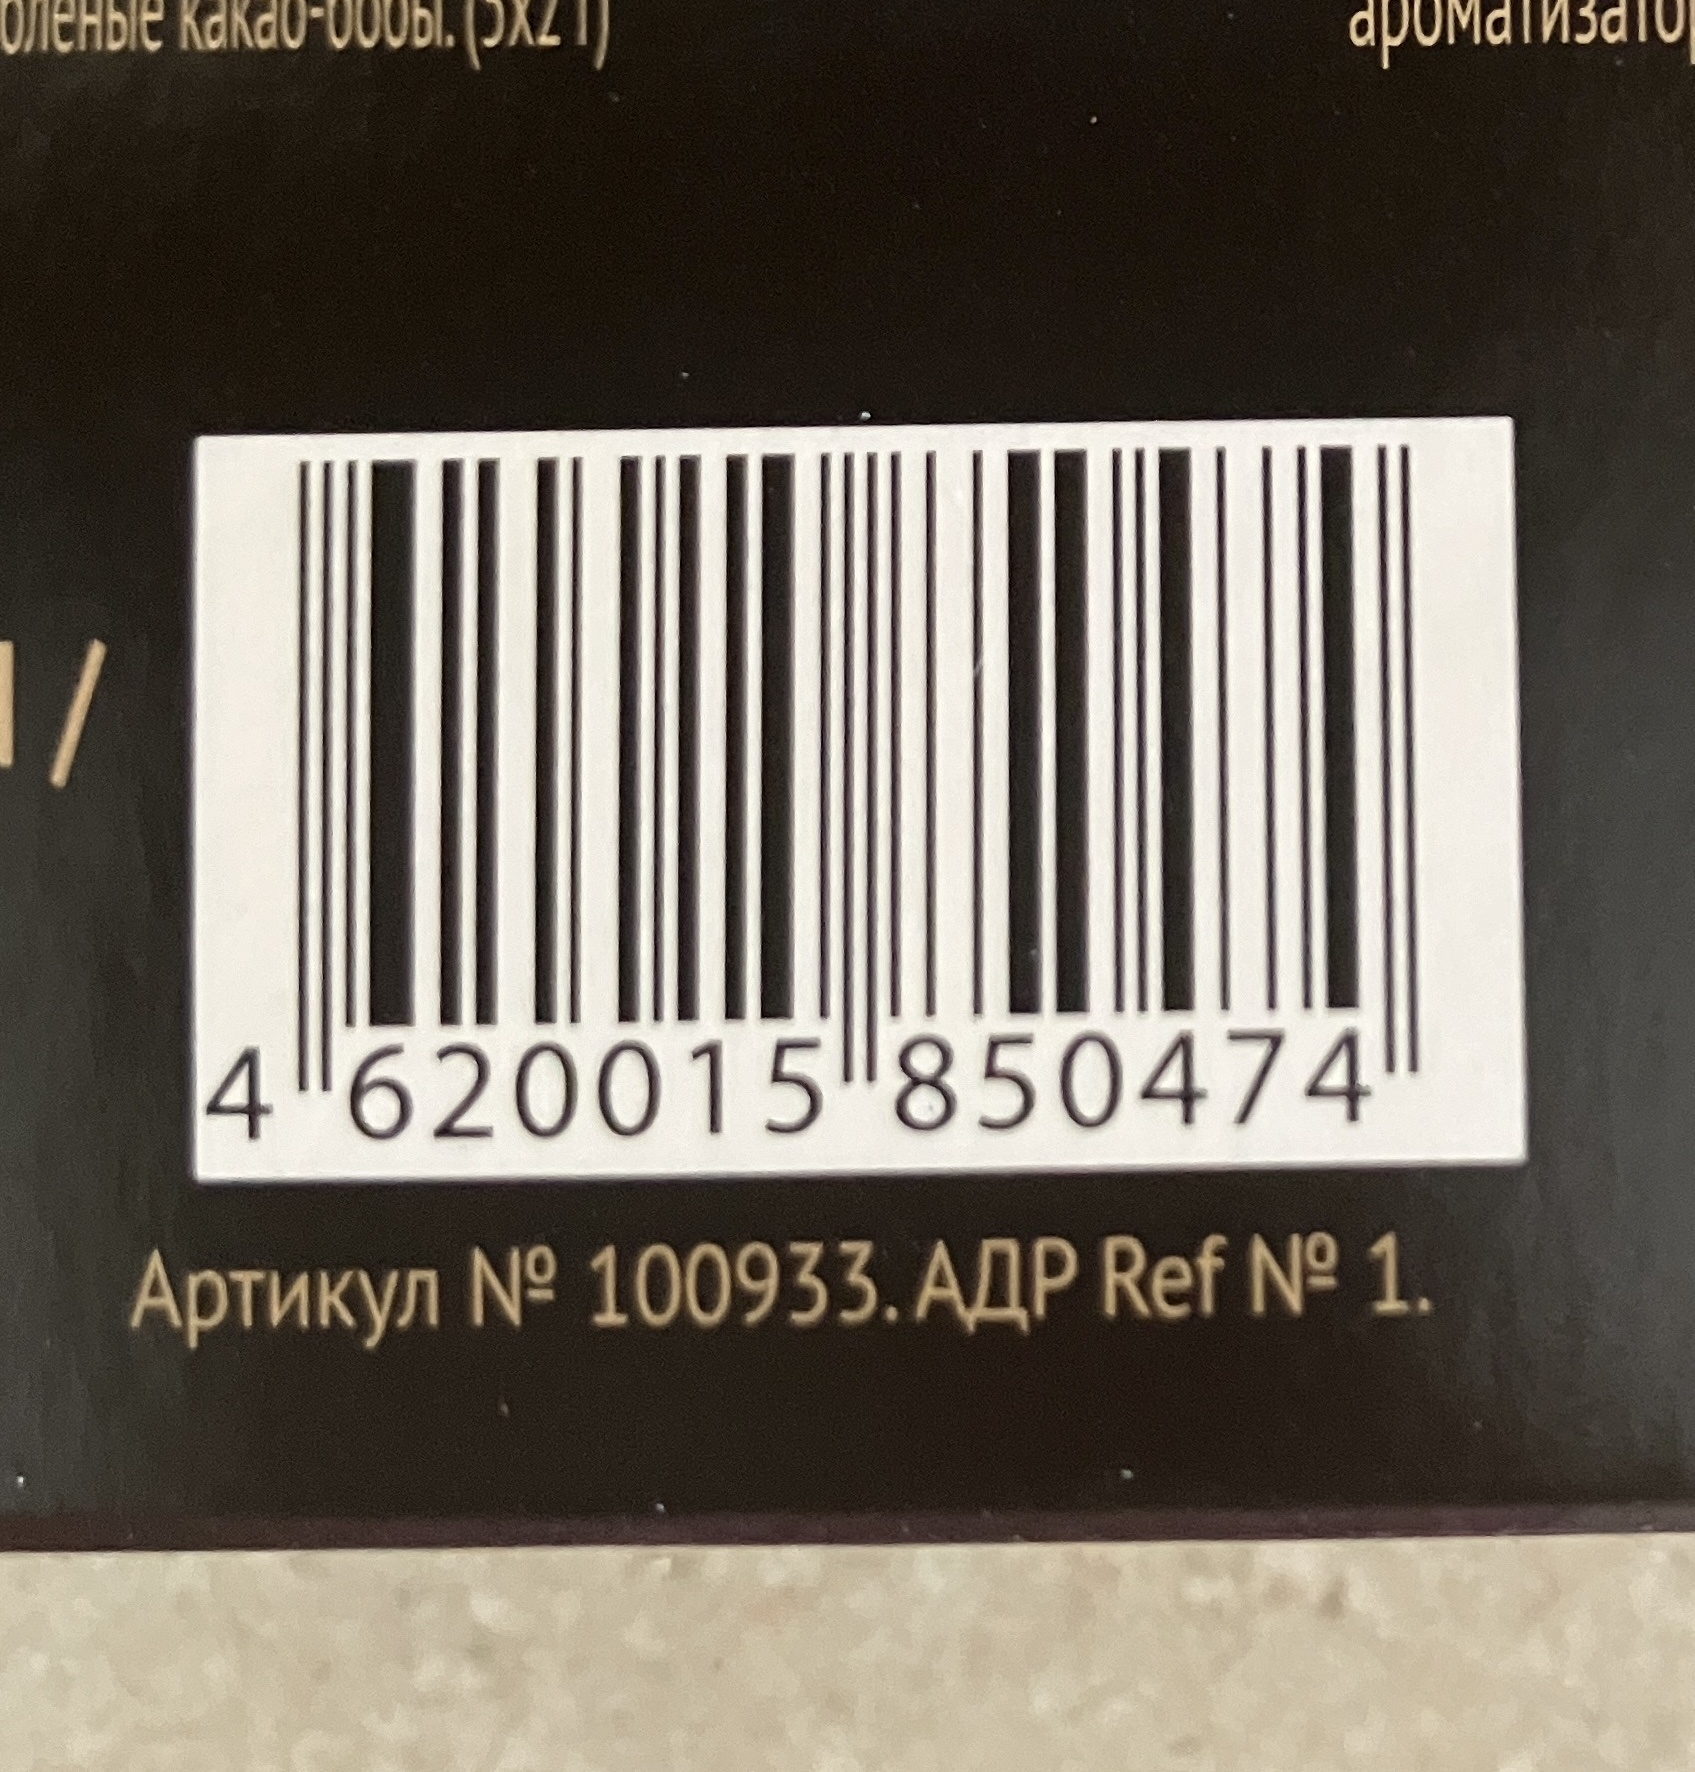1d: (299, 445, 1420, 1092)
